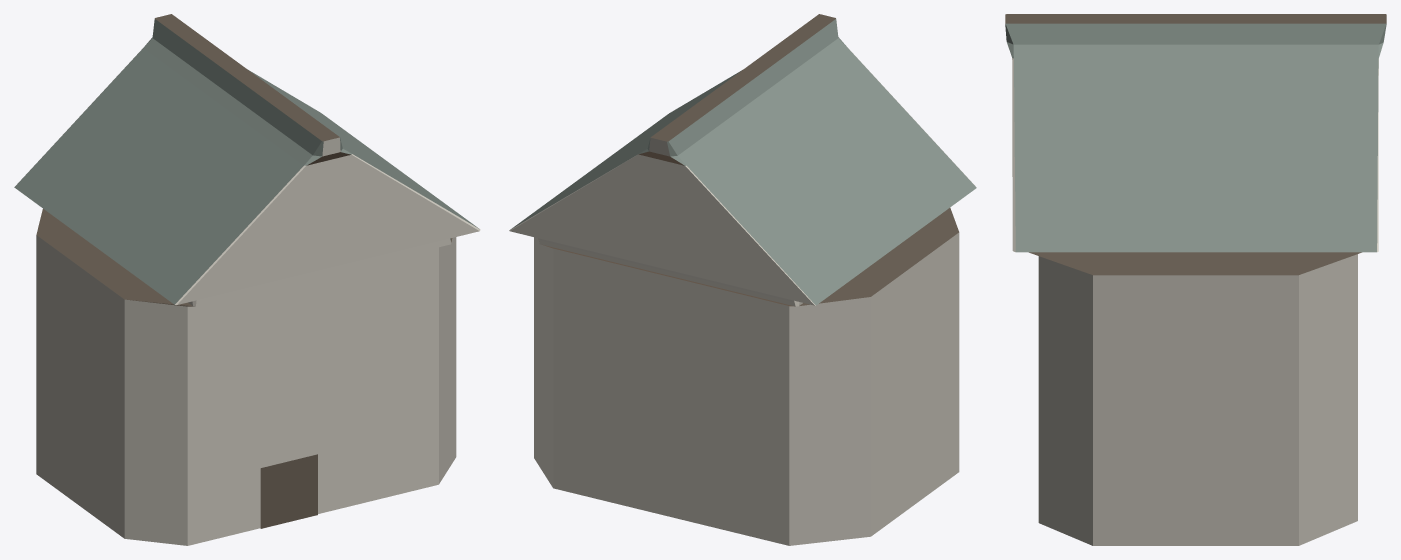
File: loin.glb
3 renders of one model, left to right at view 1: azimuth 30°, elevation 25°; view 2: azimuth 150°, elevation 25°; view 3: azimuth 270°, elevation 25°, orthographic. The views are drawn at different scales.
Visible parts, largest first — view 1: loin; view 2: loin; view 3: loin.
Part boxes in pixels (x1,y1,x2,y2): loin: [14, 14, 480, 545]; loin: [509, 14, 976, 545]; loin: [1005, 14, 1386, 545].
Bounding box in the file's own units: 0.8447 × 0.9368 × 0.7417.
